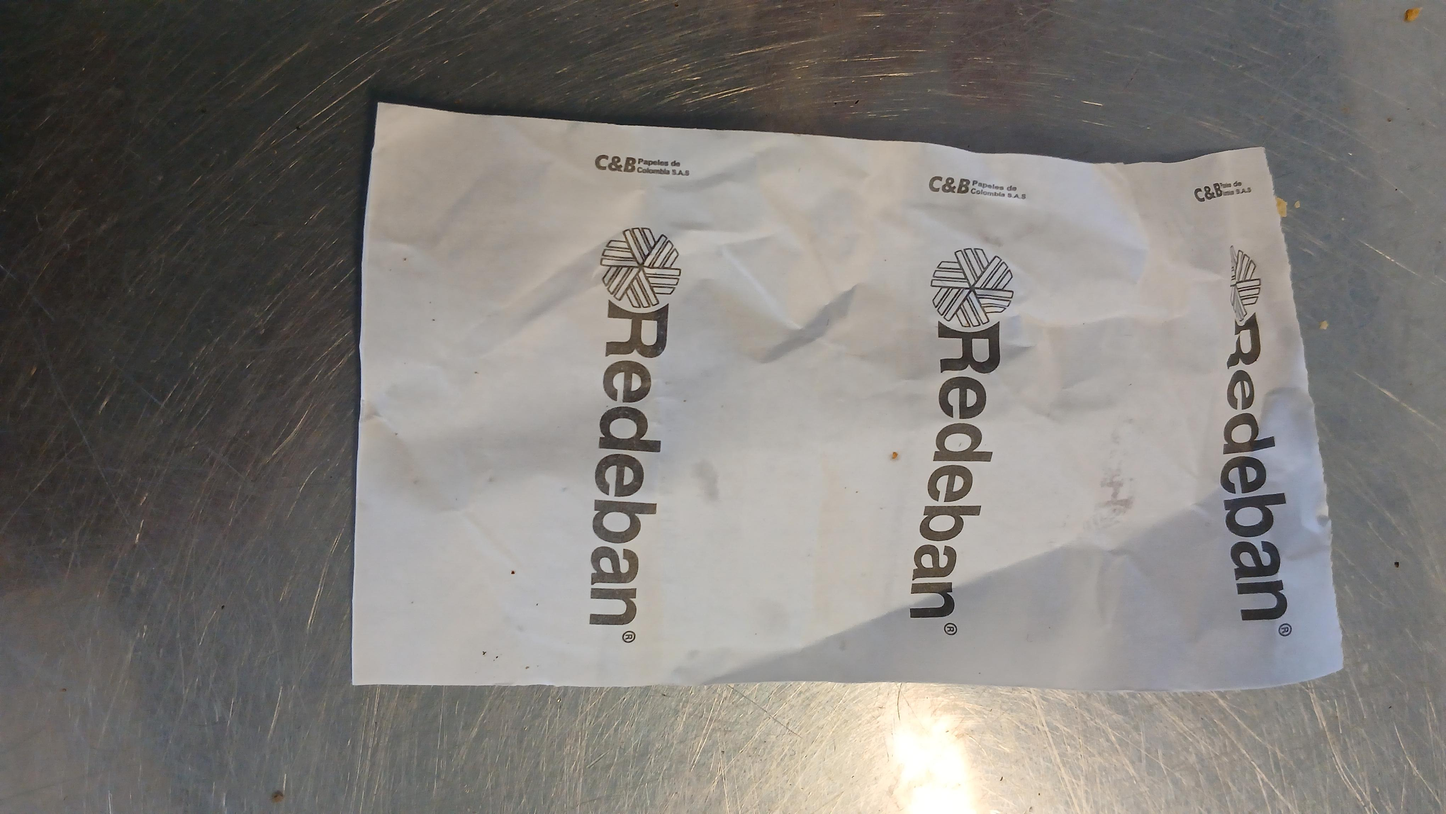Papel: (348, 104, 1343, 695)
